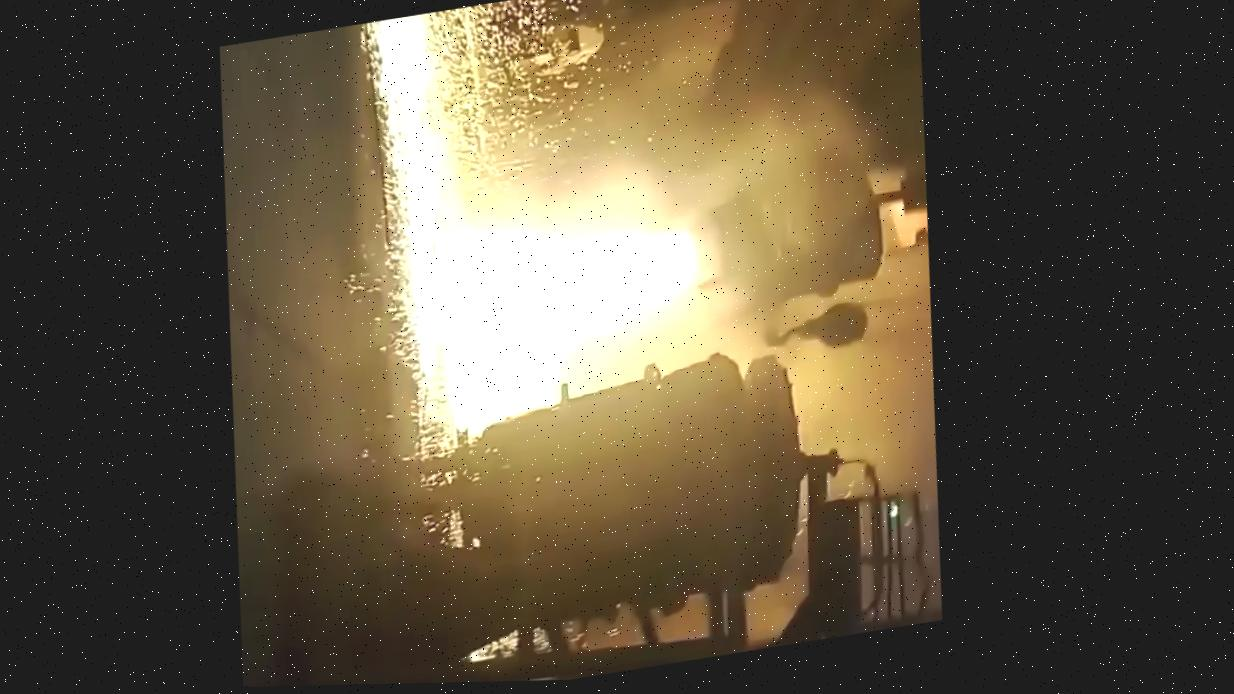fire: (346, 20, 903, 473)
